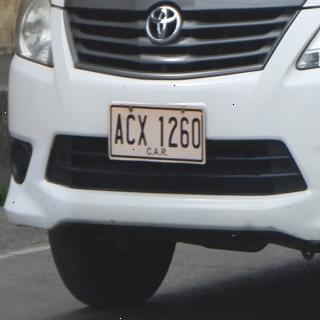license: (110, 105, 207, 165)
